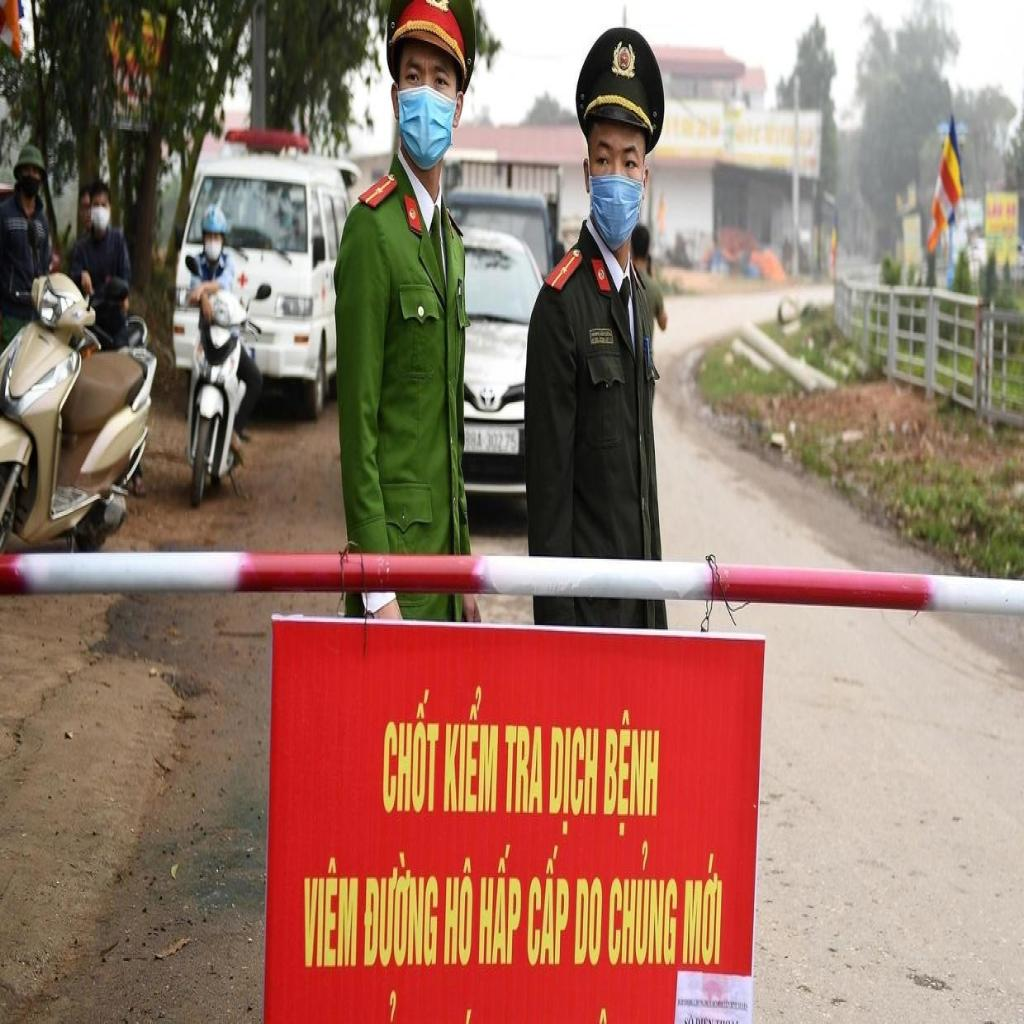text: (607, 841, 680, 968), (364, 852, 440, 968), (381, 685, 445, 817), (442, 685, 500, 817), (604, 708, 660, 840), (303, 857, 359, 971), (478, 845, 524, 970), (549, 728, 599, 839), (526, 846, 570, 970), (681, 854, 725, 968), (502, 726, 543, 817), (443, 858, 475, 971), (573, 878, 604, 970), (465, 430, 518, 452)
